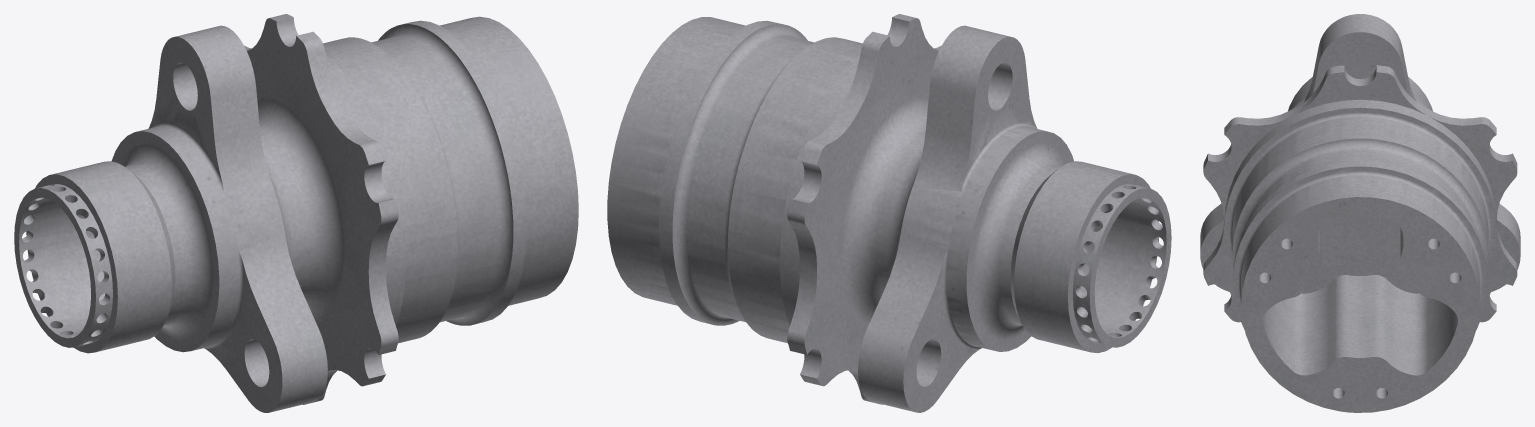
The model's file is hub.glb.
3 views of the same model, side by side, from view 1: azimuth 30°, elevation 25°; view 2: azimuth 150°, elevation 25°; view 3: azimuth 270°, elevation 25° (orthographic). The views are drawn at different scales.
Parts seen in each view (by area): view 1: rear hub shiny; view 2: rear hub shiny; view 3: rear hub shiny.
Part boxes in pixels (box(x1,y1,x2,y2)): rear hub shiny: box(14, 14, 578, 412); rear hub shiny: box(607, 14, 1171, 412); rear hub shiny: box(1200, 14, 1520, 412).
Bounding box in the file's own units: 1.26 × 1.01 × 0.9404.
Materials: 1 (1 with a texture image).
